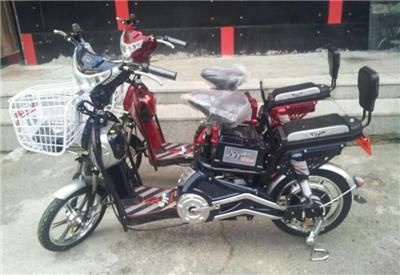non-vehicle: (15, 24, 376, 256), (100, 15, 340, 183)
